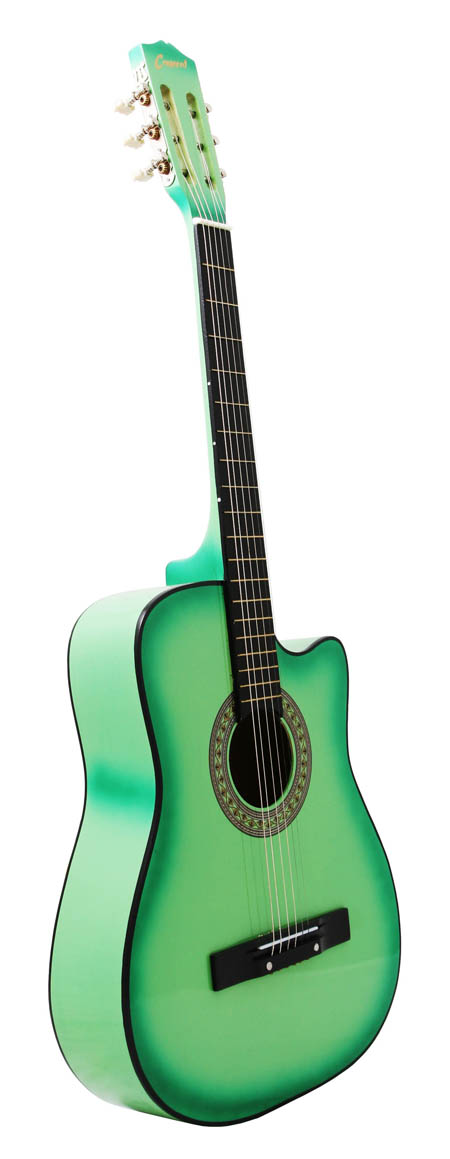guitar: (50, 32, 400, 1128)
